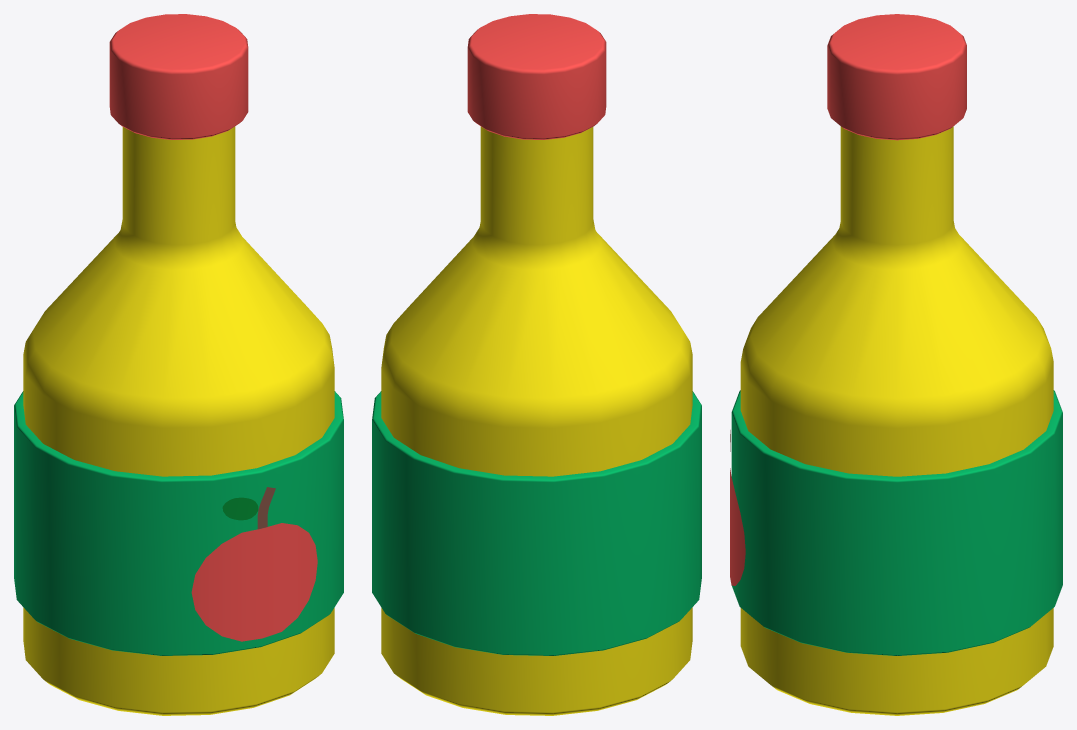
File: Store_16_Bottle_3.glb
3 renders of one model, left to right at view 1: azimuth 30°, elevation 25°; view 2: azimuth 150°, elevation 25°; view 3: azimuth 270°, elevation 25°, orthographic.
Parts seen in each view (by area): view 1: Store_16_Bottle_3; view 2: Store_16_Bottle_3; view 3: Store_16_Bottle_3.
Part boxes in pixels (left/top/right/bottom): Store_16_Bottle_3: left=14, top=14, right=343, bottom=715; Store_16_Bottle_3: left=372, top=14, right=701, bottom=715; Store_16_Bottle_3: left=730, top=14, right=1062, bottom=715.
Bounding box in the file's own units: 0.2056 × 0.4183 × 0.2065.
Materials: 1 (1 with a texture image).
